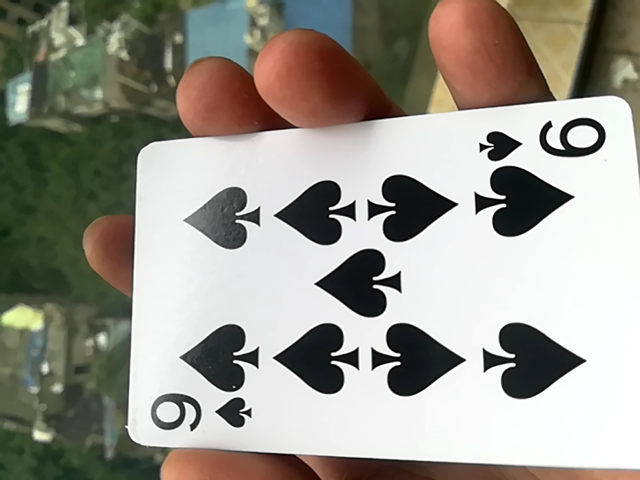ht 9: (116, 115, 638, 476)
